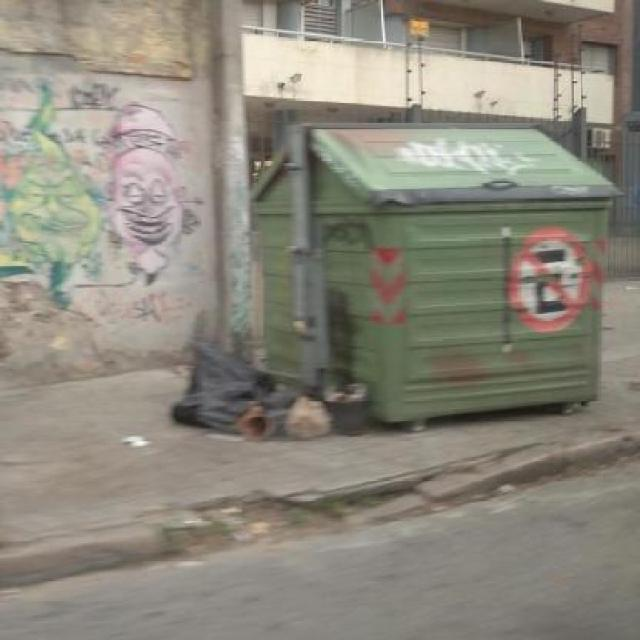garbage: (191, 355, 371, 460), (116, 429, 163, 462)
